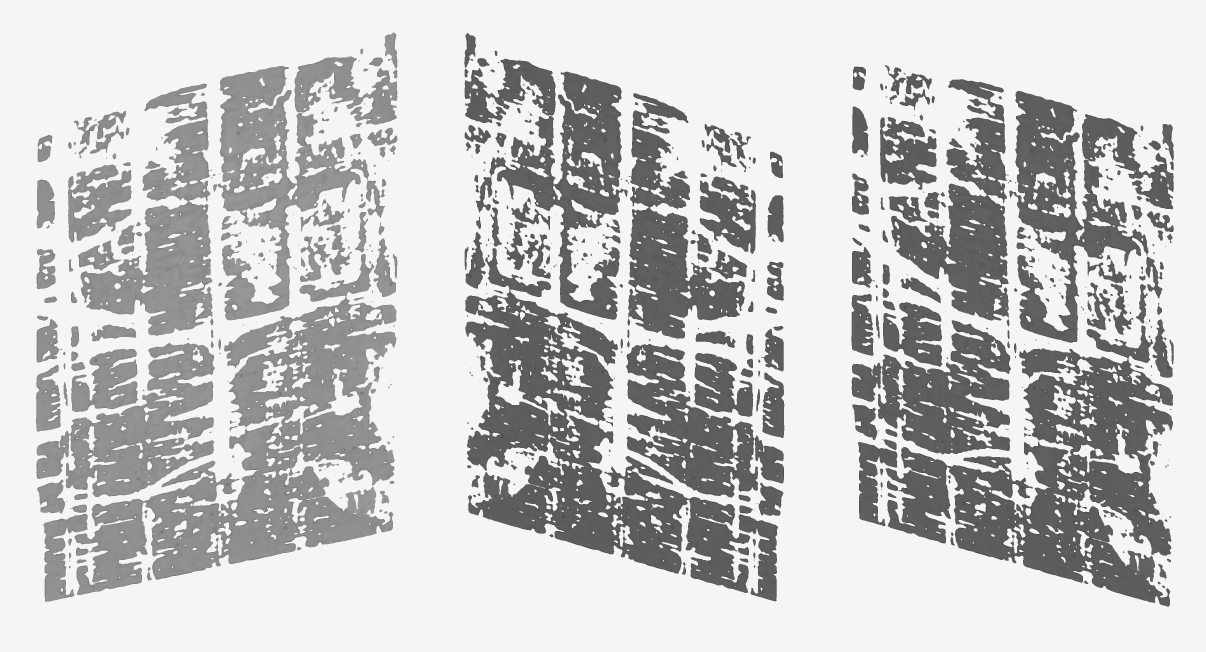
Rendered from poster_adhesive_3.fbx.
3 views of the same model, side by side, from view 1: azimuth 30°, elevation 25°; view 2: azimuth 150°, elevation 25°; view 3: azimuth 330°, elevation 25° (orthographic). The views are drawn at different scales.
Parts seen in each view (by area): view 1: poster_adhesive_3; view 2: poster_adhesive_3; view 3: poster_adhesive_3.
Boxes of the visible parts, bbox=[...] form: poster_adhesive_3: bbox=[36, 32, 397, 601]; poster_adhesive_3: bbox=[464, 33, 784, 601]; poster_adhesive_3: bbox=[851, 65, 1173, 606].
Size of the model in its own units: 50.82 by 67.95 by 3.73.
